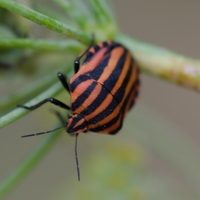insect: (18, 41, 138, 179)
